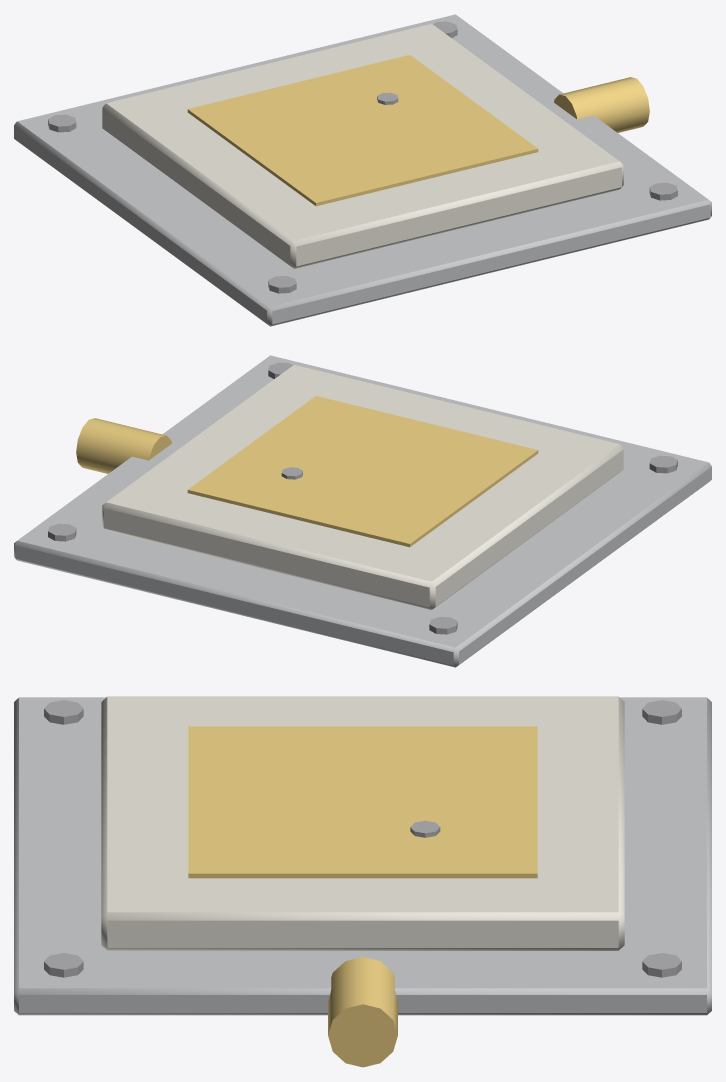
The model's file is mod_antenna_sband.glb.
3 renders of one model, top to bottom at view 1: azimuth 30°, elevation 25°; view 2: azimuth 150°, elevation 25°; view 3: azimuth 270°, elevation 25°, orthographic. The views are drawn at different scales.
Parts seen in each view (by area): view 1: mod_antenna_sband; view 2: mod_antenna_sband; view 3: mod_antenna_sband.
Boxes of the visible parts, x1,y1,x2,y2 form: mod_antenna_sband: (14,14,711,326); mod_antenna_sband: (14,355,711,667); mod_antenna_sband: (14,696,711,1067).
Size of the model in its own units: 0.625 by 0.08 by 0.56.
